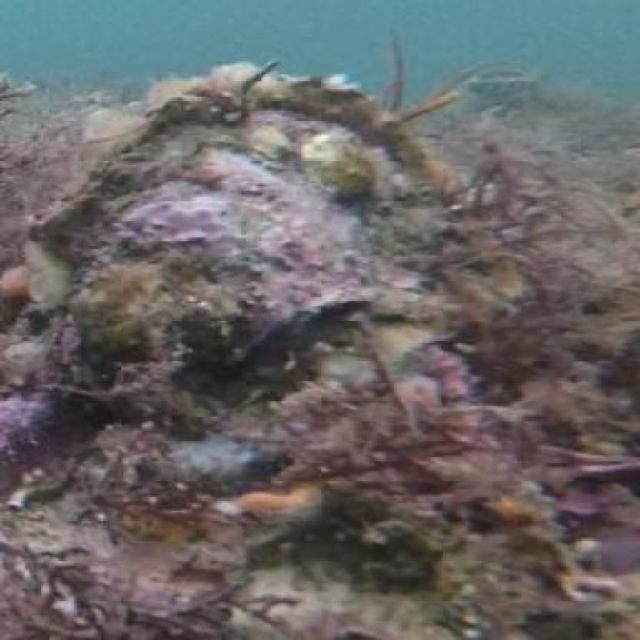Oyster-Indeterminate: (38, 69, 450, 369)
